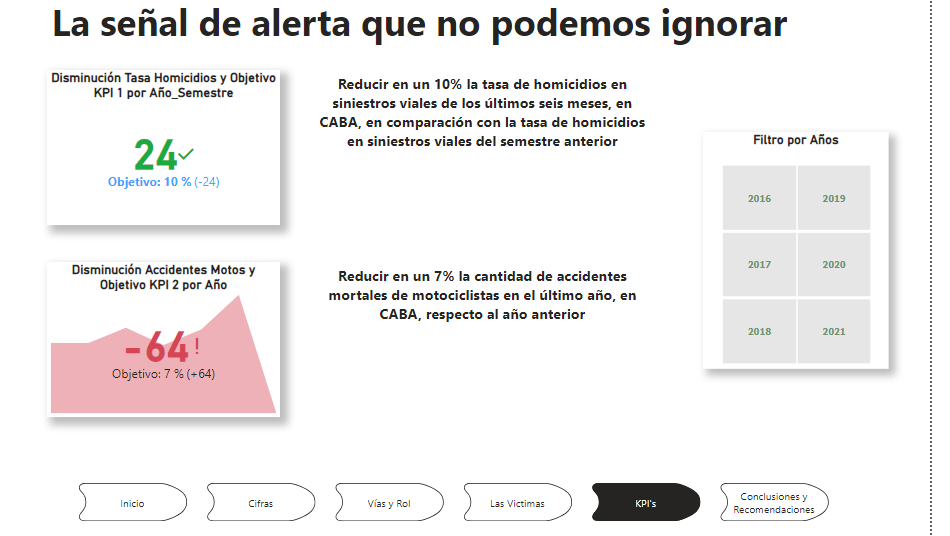

What the dashboard file says about the page in this screenshot:
{"tool":"powerbi","page":{"name":"KPI's","canvas":[1280,720],"ordinal":4},"visuals":[{"type":"kpi","fields":{"Goal":["DAX.Objetivo KPI 1"],"Indicator":["DAX.Disminución Tasa Homicidios"],"TrendLine":["Calendario.Año_Semestre"]},"box":[123.8,103.7,305.3,203],"z":0},{"type":"kpi","fields":{"Goal":["DAX.Objetivo KPI 2"],"Indicator":["DAX.Disminución Accidentes Motos"],"TrendLine":["Calendario.Año"]},"box":[123.8,354.2,305.3,203],"z":1000},{"type":"pageNavigator","box":[157,643.7,999.4,50.4],"z":2000},{"type":"textbox","box":[123.8,1.4,982.1,79.2],"z":3000},{"type":"textbox","box":[466.6,103.7,456.5,203],"z":4000},{"type":"textbox","box":[466.6,354.2,456.5,203],"z":5000},{"type":"slicer","title":"Filtro por Años","fields":{"Values":["Calendario.Año"]},"box":[983.5,184.3,243.4,309.6],"z":7000}]}

Visuals, with their boxes in screenshot pixels (x1, y1, x2, y2), scaled from the page's 1280x720 canvas onto the 950x536 screenshot:
kpi - DAX.Objetivo KPI 1 x DAX.Disminución Tasa Homicidios: [left=92, top=77, right=318, bottom=228]
kpi - DAX.Objetivo KPI 2 x DAX.Disminución Accidentes Motos: [left=92, top=264, right=318, bottom=415]
pageNavigator: [left=117, top=479, right=858, bottom=517]
textbox: [left=92, top=1, right=821, bottom=60]
textbox: [left=346, top=77, right=685, bottom=228]
textbox: [left=346, top=264, right=685, bottom=415]
"Filtro por Años" slicer: [left=730, top=137, right=911, bottom=368]
